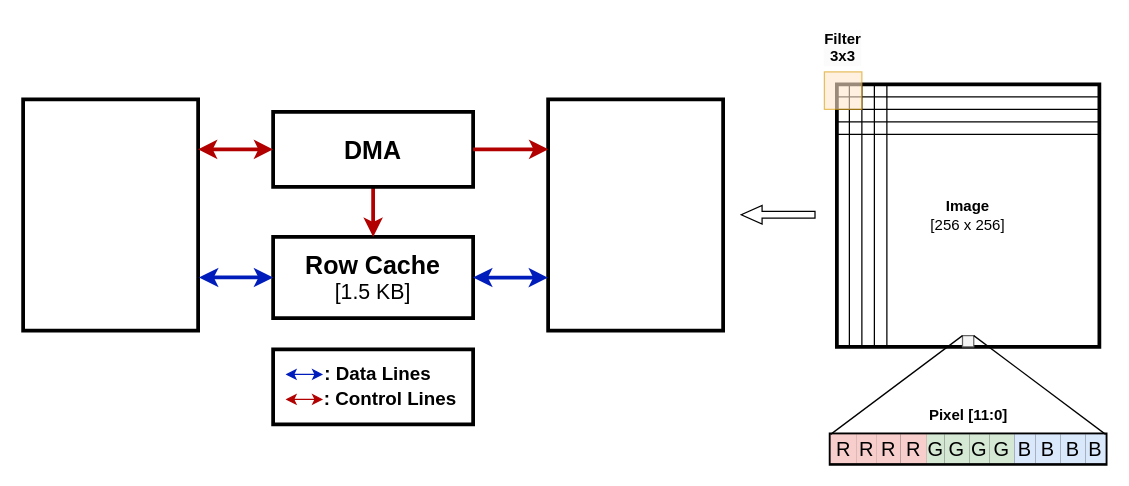
Image size: 1129x486. Some labels were removed from this diagram. Here are the shapes that lost their labels. From the top down, the centre of each, then its label:
At point 110,214: "Processing Element".
At point 635,214: "Image Buffer [192 KB]".
